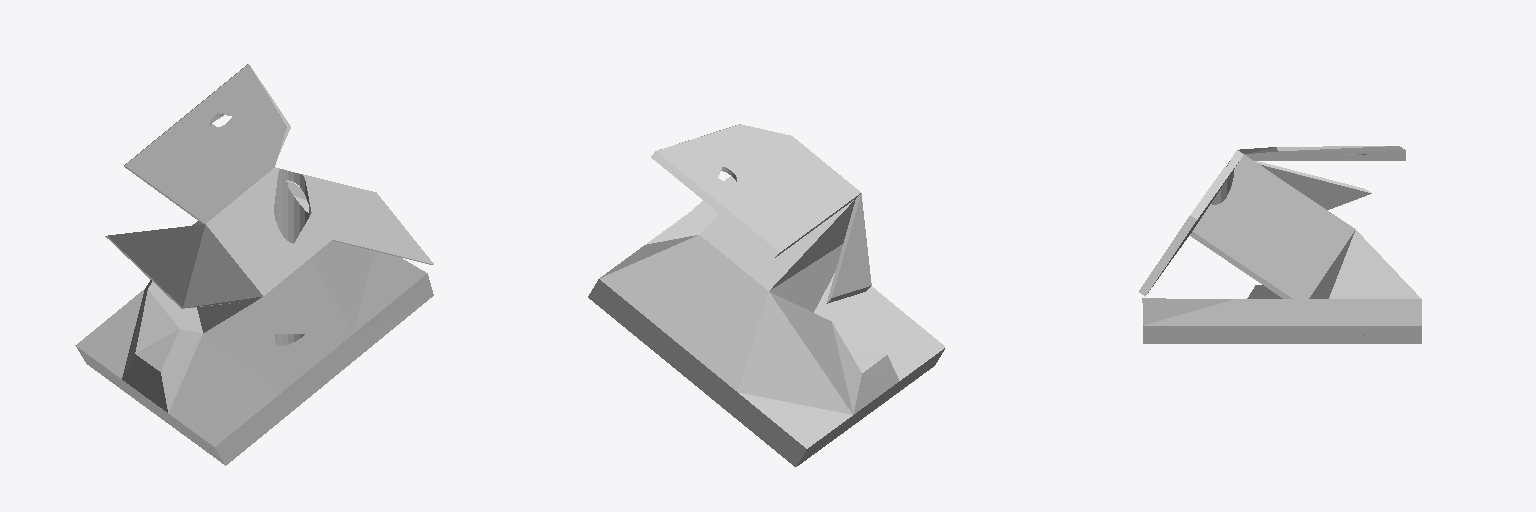
The model's file is Mang_Door_Mech.obj.
The picture shows the model from 3 angles: view 1: azimuth 30°, elevation 25°; view 2: azimuth 150°, elevation 25°; view 3: azimuth 270°, elevation 25°; orthographic projection.
Parts seen in each view (by area): view 1: pCube3; view 2: pCube3; view 3: pCube3.
Part boxes in pixels (x1,y1,x2,y2): pCube3: (75, 64, 433, 465); pCube3: (588, 124, 945, 466); pCube3: (1139, 146, 1421, 343).
Bounding box in the file's own units: 6.62 × 7.82 × 7.39.